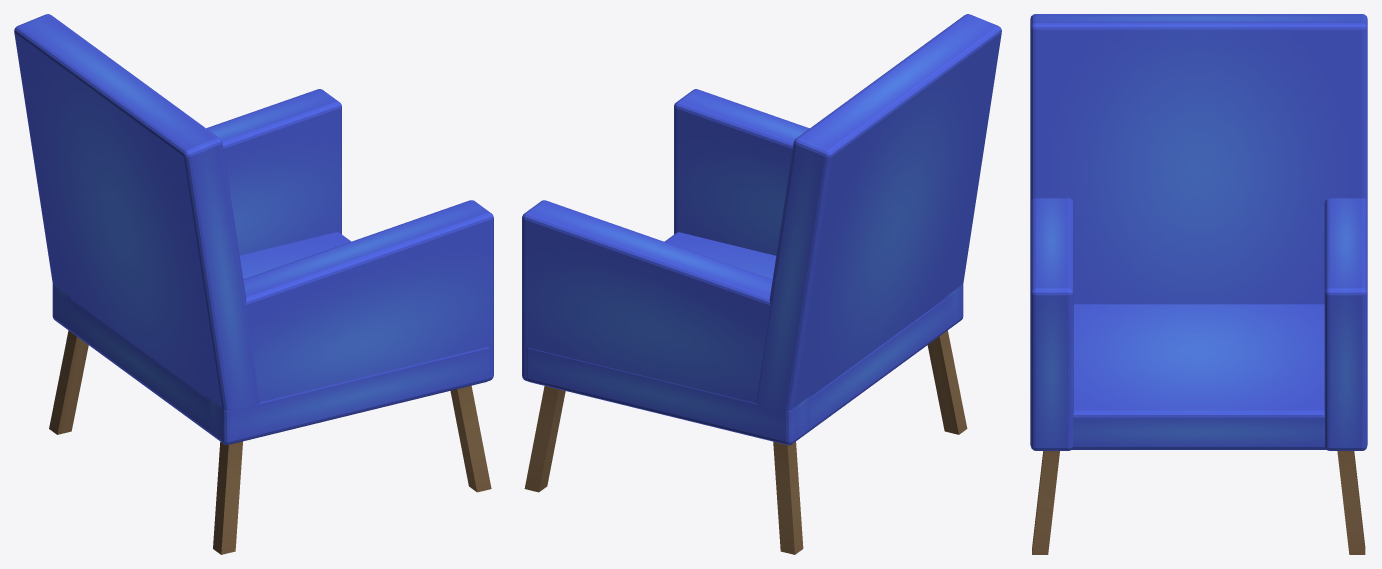
File: chair 4 good.fbx
3 renders of one model, left to right at view 1: azimuth 30°, elevation 25°; view 2: azimuth 150°, elevation 25°; view 3: azimuth 270°, elevation 25°, orthographic. The views are drawn at different scales.
Visible parts, largest first — view 1: chair_4_good; view 2: chair_4_good; view 3: chair_4_good.
Part boxes in pixels (x1,y1,x2,y2): chair_4_good: (14, 14, 493, 554); chair_4_good: (522, 14, 1001, 554); chair_4_good: (1030, 14, 1367, 554).
Bounding box in the file's own units: 4.93 × 6.34 × 4.81.
Materials: 1 (1 with a texture image).
